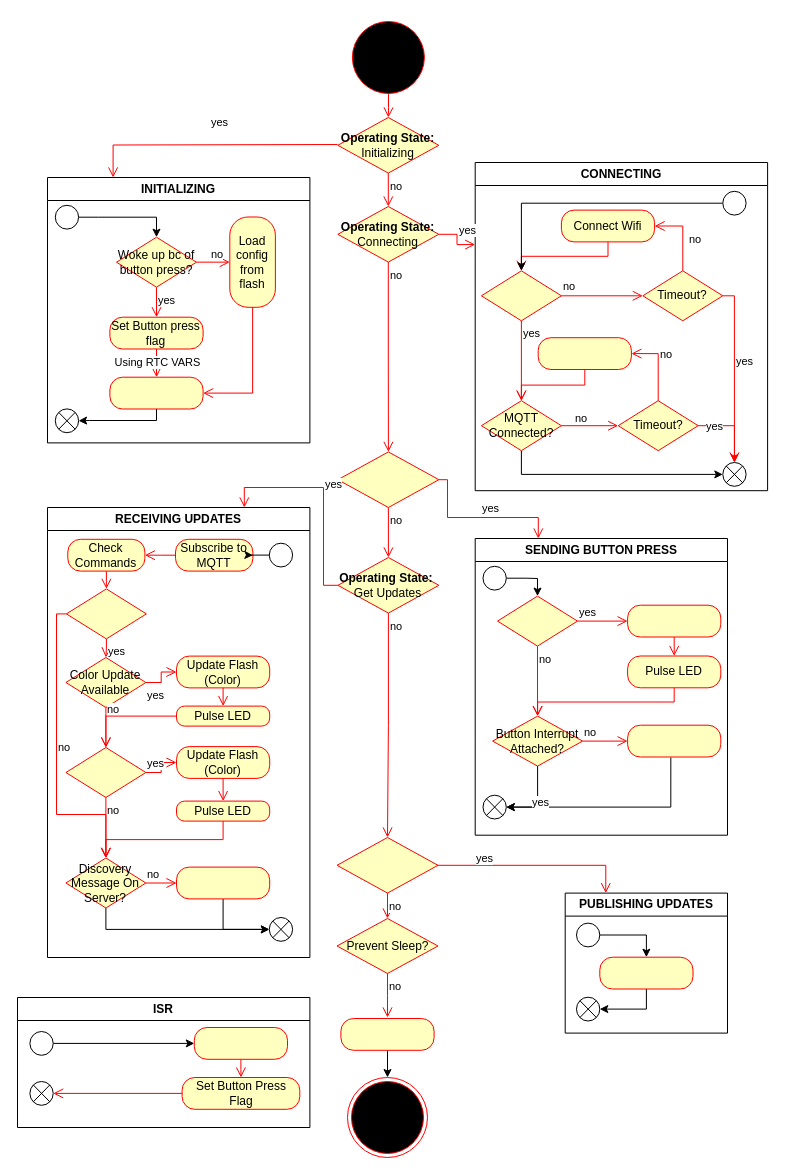
The diagram is 786 pixels wide and 1175 high, and some of its shapes have lost their labels. Each missing label, with the centre of its shape:
Attach Button Interrupt: the point at 674,740
Brightness Update Available: the point at 105,772
Button Press Flag?: the point at 537,620
Button Press ISR Triggered: the point at 240,1042
Commands Available?: the point at 105,613
Connect MQTT: the point at 584,353
Go To Sleep: the point at 387,1034
Operating State: Button Action: the point at 388,479
Operating State: Publish Updates: the point at 387,864
Publish State: the point at 646,972
Send Button Press: the point at 674,620
Send Discovery Message: the point at 223,882
Turn On LED: the point at 156,392
Wifi Connected?: the point at 520,295
